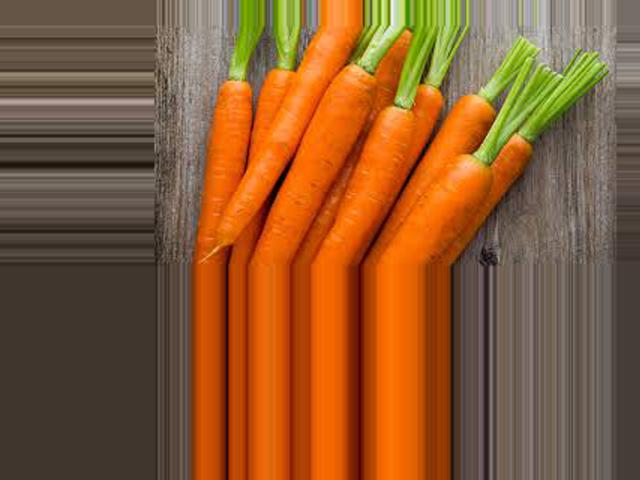carrot: (392, 55, 494, 261)
